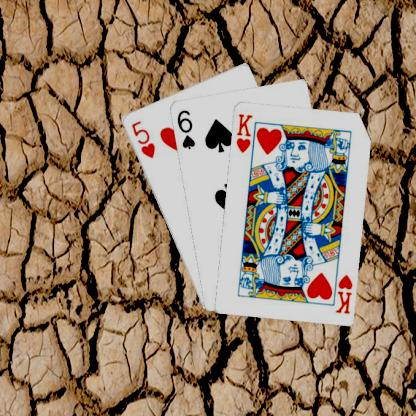5H: (128, 118, 156, 159)
6S: (173, 107, 196, 150)
KH: (332, 271, 353, 315), (233, 111, 254, 154)
